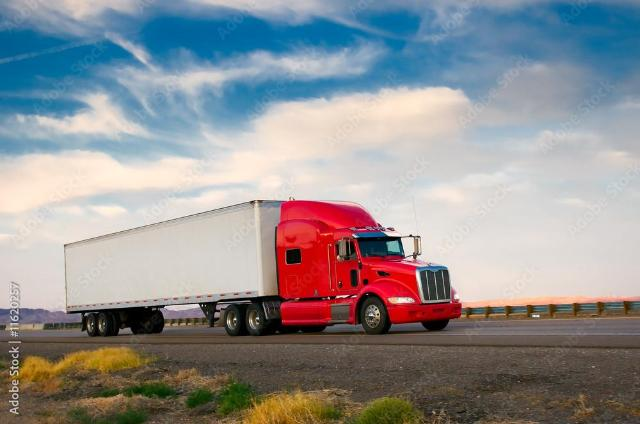truck: (42, 193, 503, 351)
